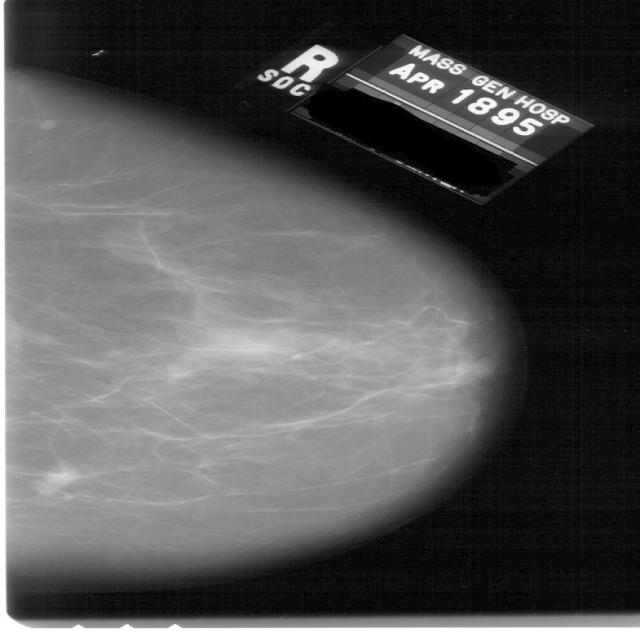tumour: (38, 466, 82, 494)
